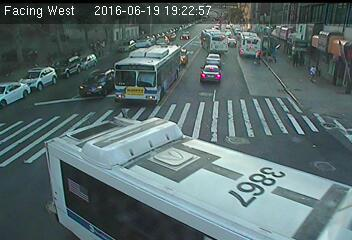neg: (49, 44, 79, 84), (67, 110, 94, 146), (270, 87, 297, 122), (144, 116, 169, 149), (198, 148, 223, 181), (318, 139, 342, 171), (97, 75, 118, 102), (140, 46, 160, 73), (78, 166, 97, 190), (244, 153, 262, 177), (146, 187, 164, 211), (227, 86, 244, 109), (234, 33, 251, 56), (199, 51, 214, 71)
